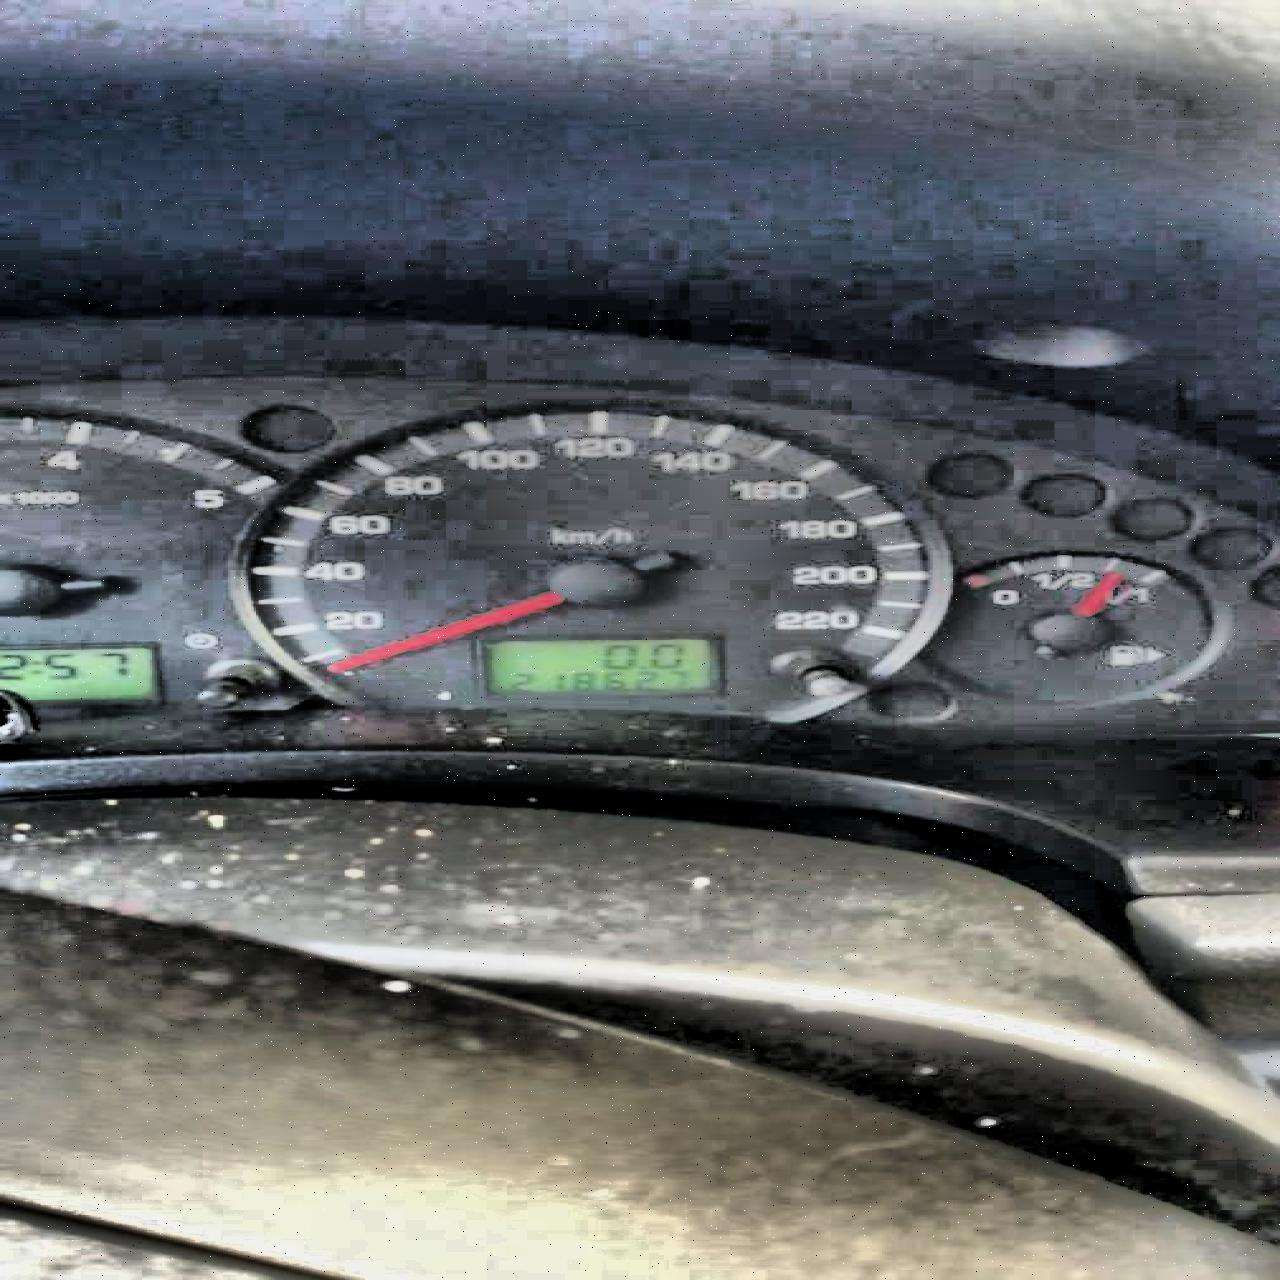-: (633, 662, 644, 668)
0: (646, 642, 682, 667), (600, 642, 633, 667)
1: (550, 670, 565, 690)
2: (628, 669, 656, 690), (506, 670, 532, 690)
6: (598, 670, 626, 690)
7: (665, 669, 689, 689)
8: (570, 670, 593, 690)
odometer: (477, 636, 709, 695)
